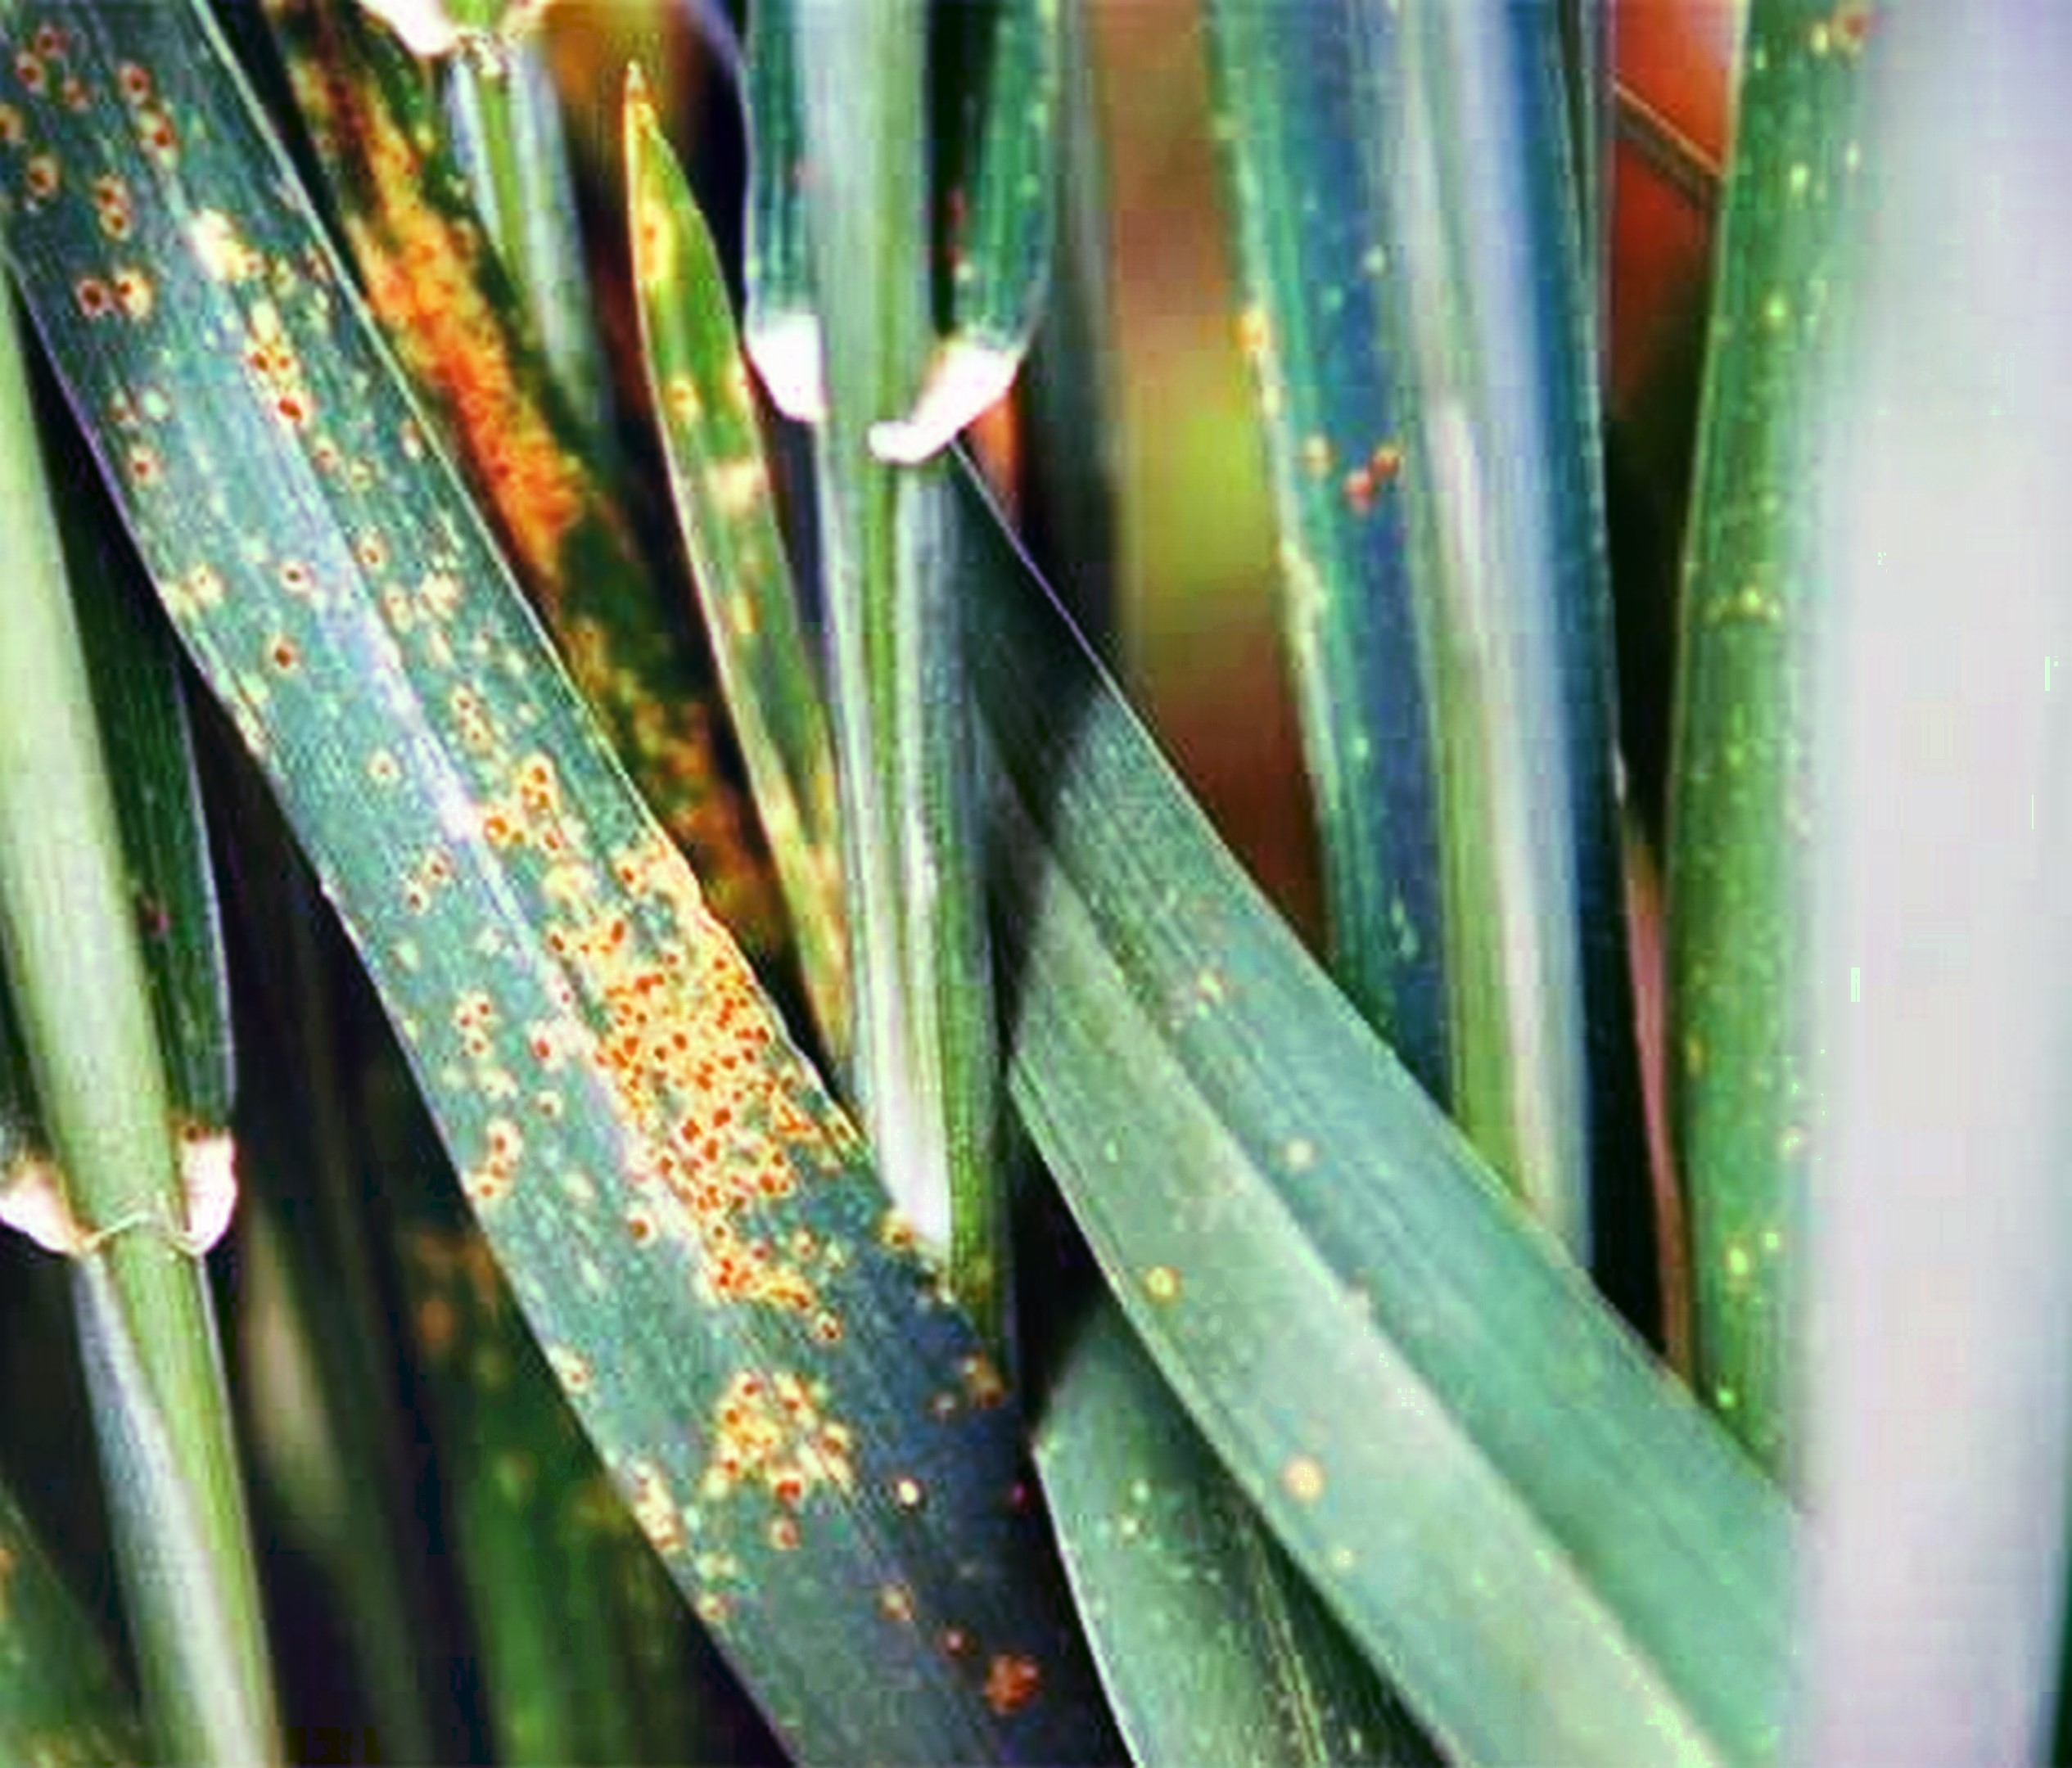Leaf Rust: (154, 296, 940, 1514)
